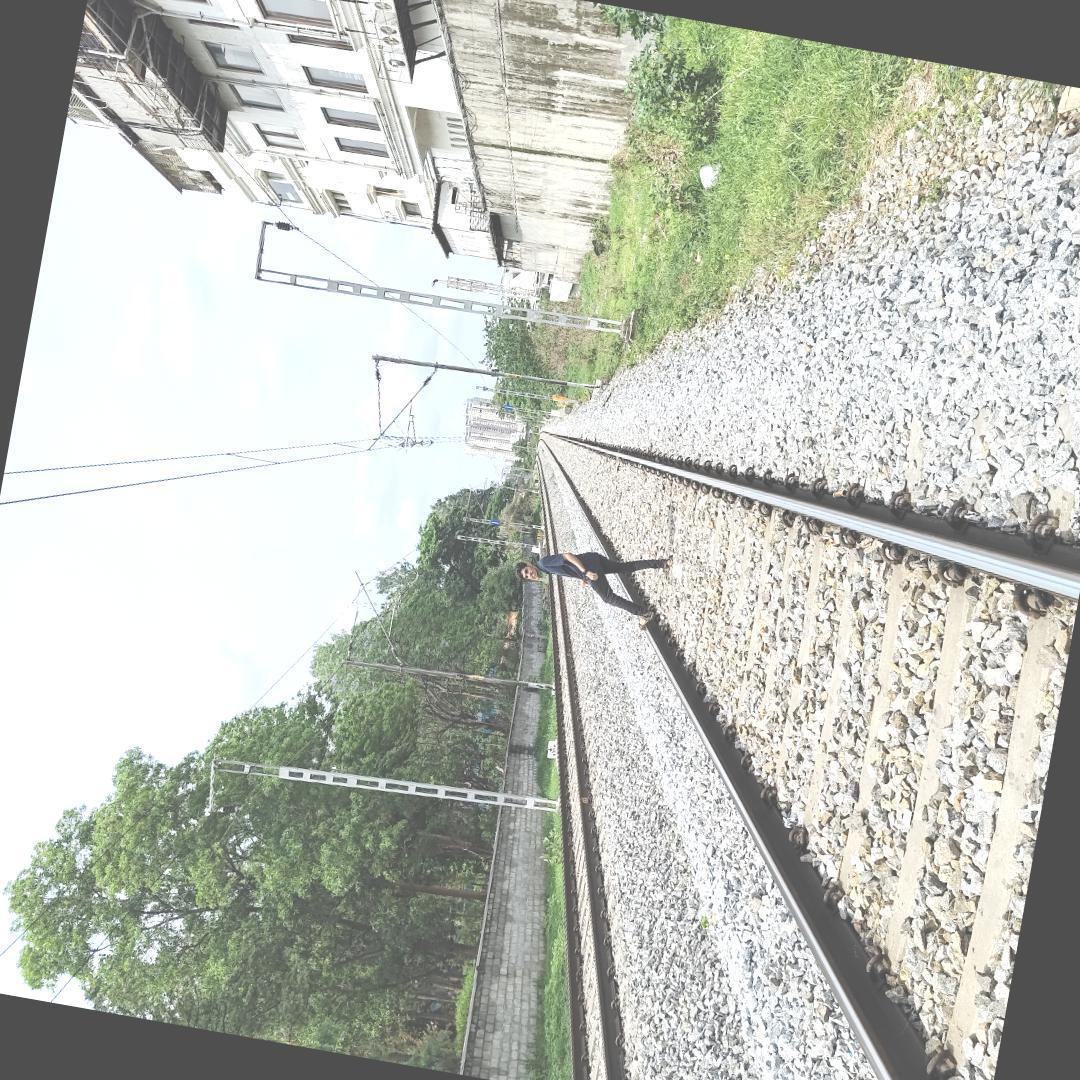standing: (510, 533, 682, 633)
track: (537, 436, 1080, 1080)
